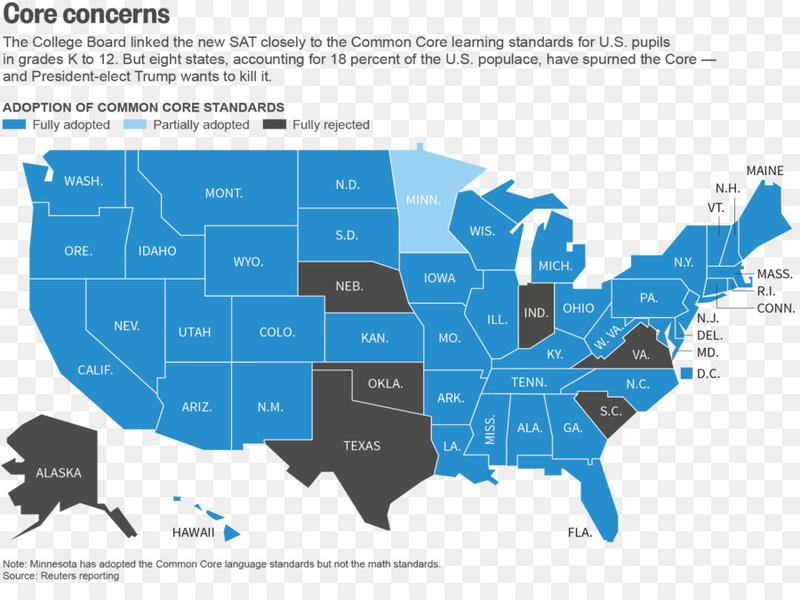legend: (1, 101, 372, 133)
